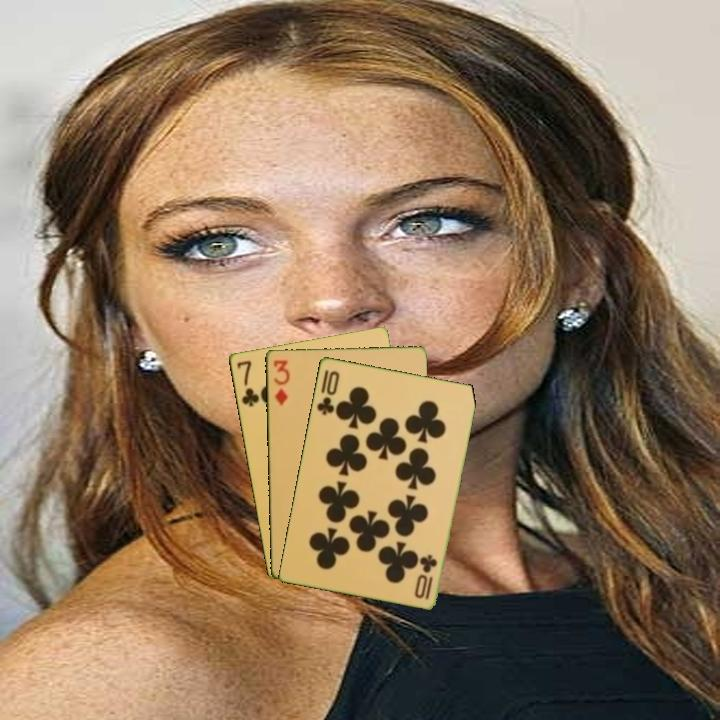10c: (313, 367, 342, 418), (412, 551, 440, 602)
3d: (270, 356, 292, 408)
7c: (233, 357, 262, 409)
